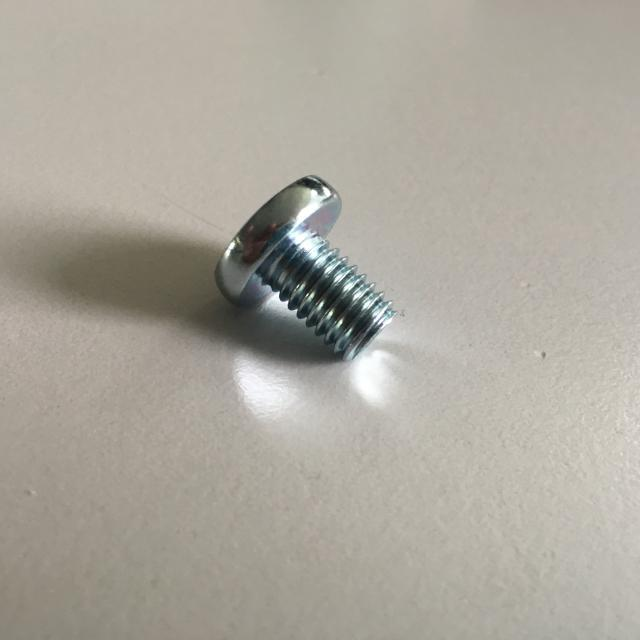Dry Waste: (168, 130, 550, 428)
